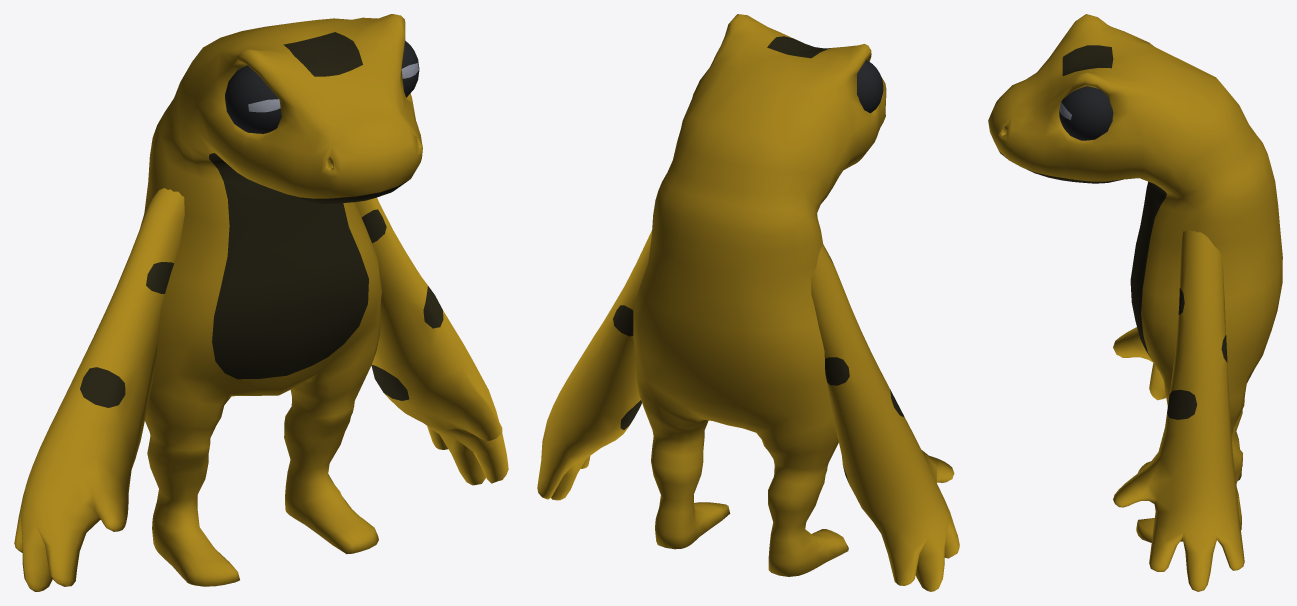
The model's file is Frog.glb.
3 renders of one model, left to right at view 1: azimuth 30°, elevation 25°; view 2: azimuth 150°, elevation 25°; view 3: azimuth 270°, elevation 25°, orthographic. The views are drawn at different scales.
Visible parts, largest first — view 1: SK_Frog; view 2: SK_Frog; view 3: SK_Frog.
Boxes of the visible parts, bbox=[...] form: SK_Frog: bbox=[14, 14, 508, 591]; SK_Frog: bbox=[537, 14, 959, 591]; SK_Frog: bbox=[988, 14, 1282, 591].
Size of the model in its own units: 2.35 by 2.7 by 1.56.
Materials: 1 (1 with a texture image).
